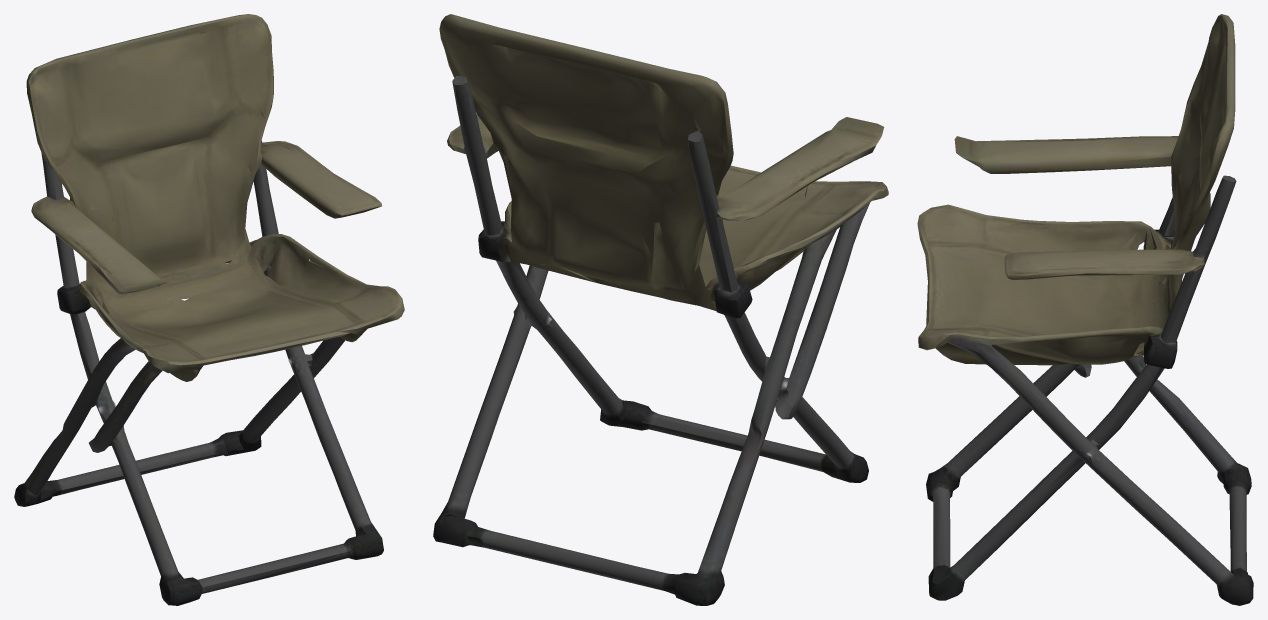
File: campchair.glb
The picture shows the model from 3 angles, left to right: view 1: azimuth 30°, elevation 25°; view 2: azimuth 150°, elevation 25°; view 3: azimuth 270°, elevation 25°; orthographic projection. The views are drawn at different scales.
Visible parts, largest first — view 1: campchair; view 2: campchair; view 3: campchair.
Boxes of the visible parts, x1=… form: campchair: x1=14, y1=14, x2=404, y2=605; campchair: x1=433, y1=14, x2=888, y2=605; campchair: x1=917, y1=14, x2=1253, y2=605.
Bounding box in the file's own units: 0.5572 × 0.85 × 0.542.
Materials: 1 (1 with a texture image).
